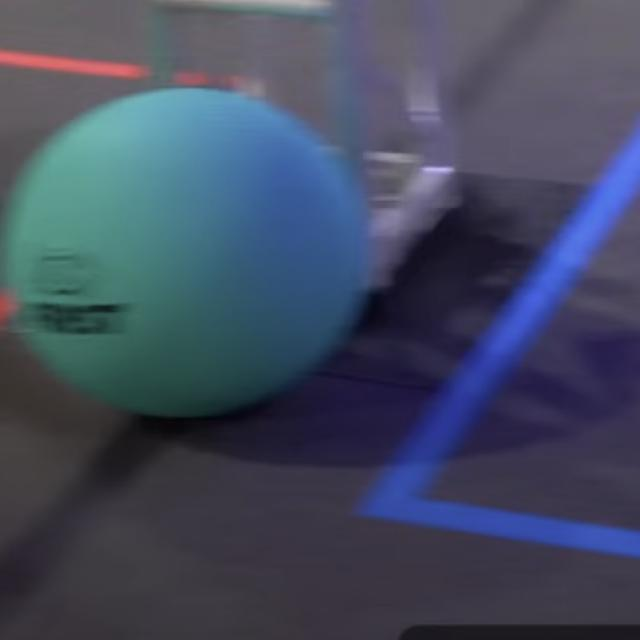Algae: (1, 88, 370, 417)
